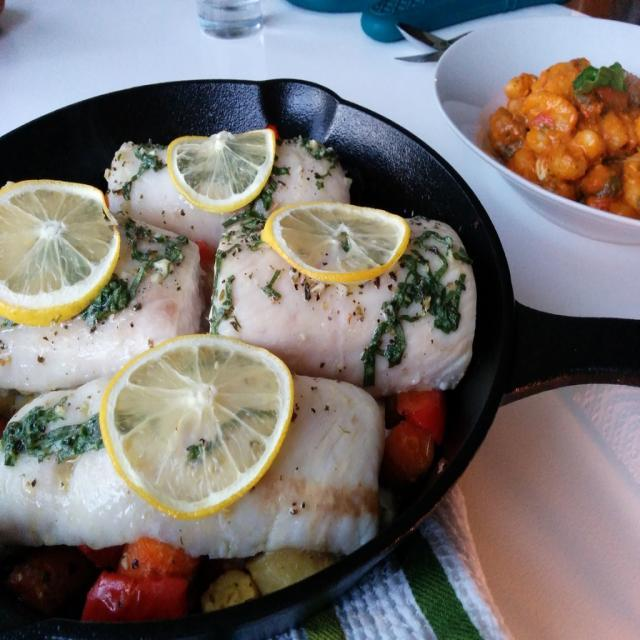Lemon: (90, 328, 298, 529), (4, 176, 118, 322), (263, 205, 411, 283), (168, 133, 276, 212)
